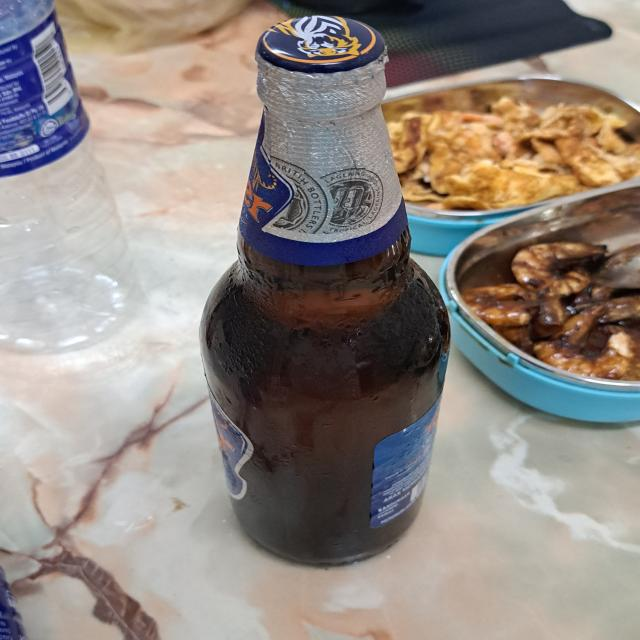glass bottle: (203, 14, 452, 567)
plastic bottle: (0, 0, 144, 358)
